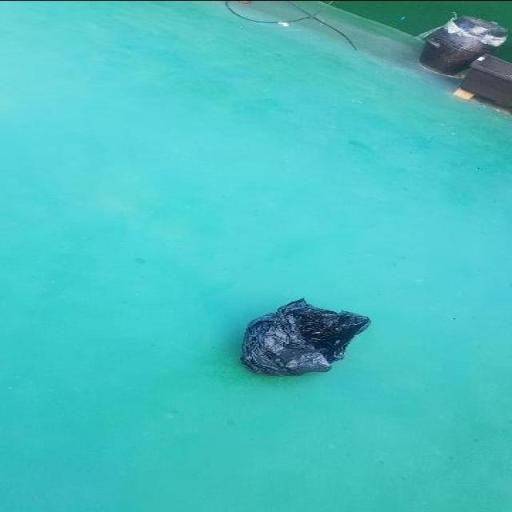plastic-bag: (238, 294, 377, 376)
